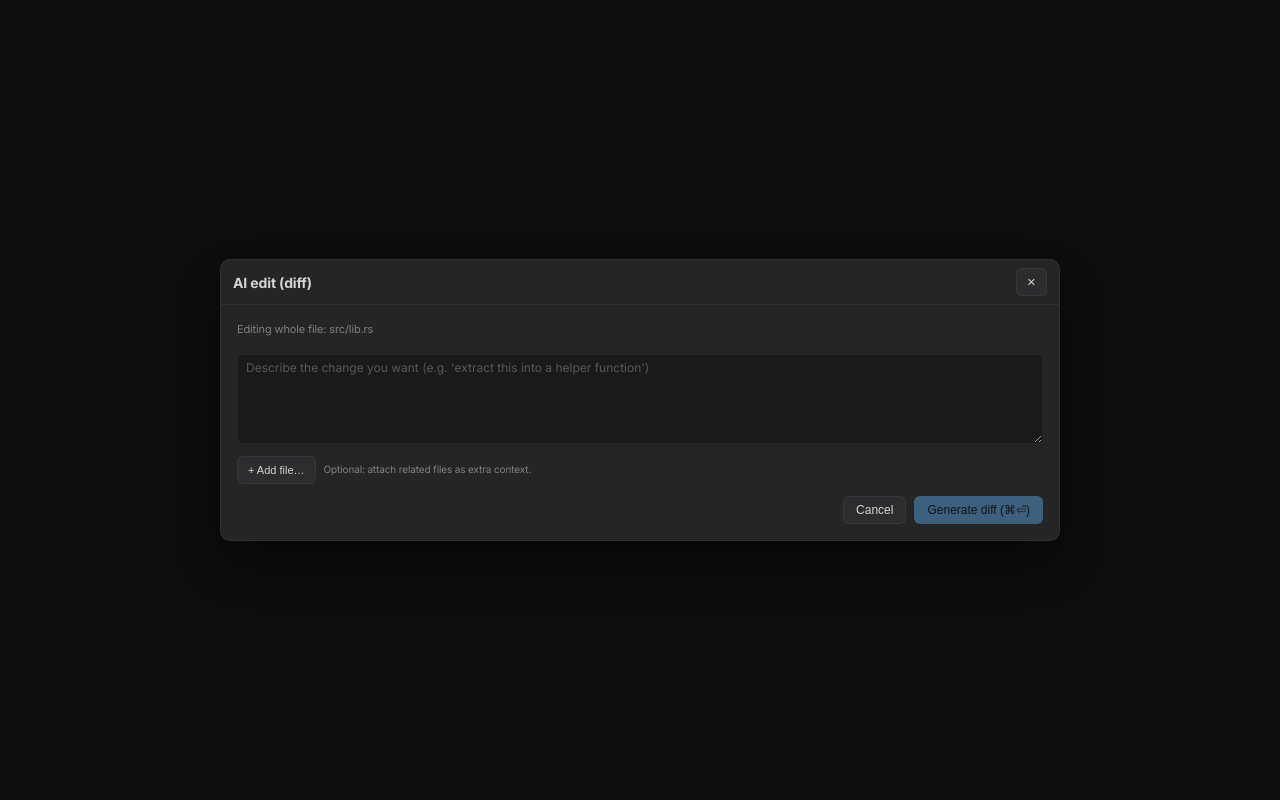
Scenario: DiffCompleteModal — flow › shows error phase when the backend throws
Replace the text in the text box with placeholder "Describe the change" with "x" at point(640, 399), box [237,354,1043,444]
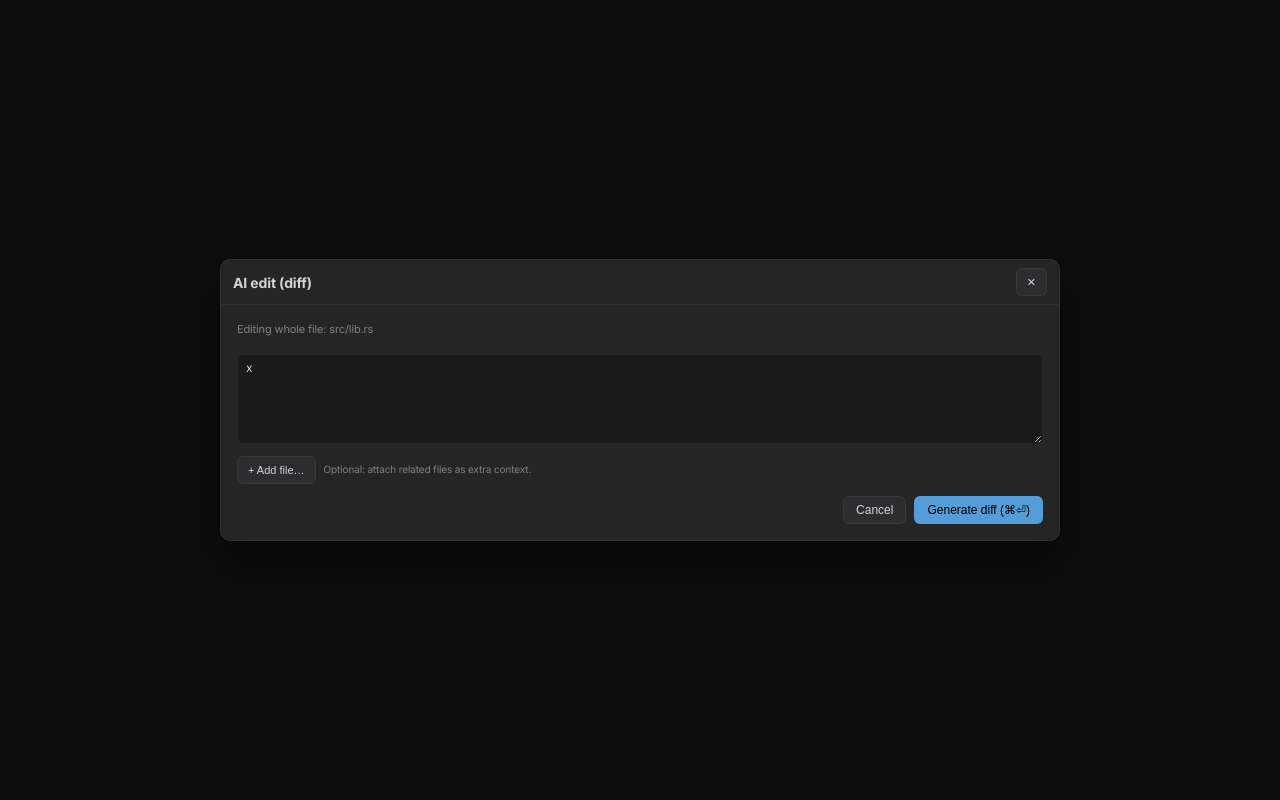
Click the button "Generate diff (⌘⏎)" at point(979, 510), box [914,496,1043,524]
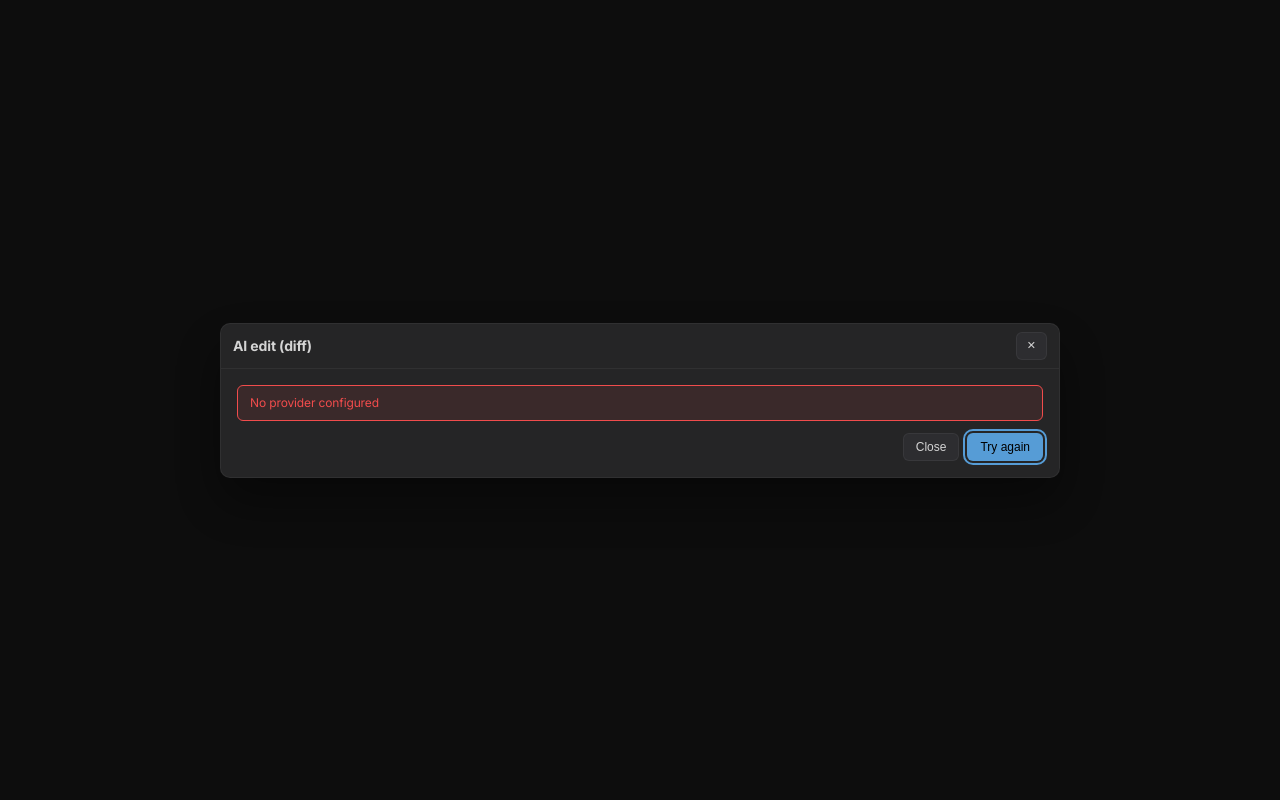
Result: the text "No provider configured" is shown at [237,384,1043,420]
